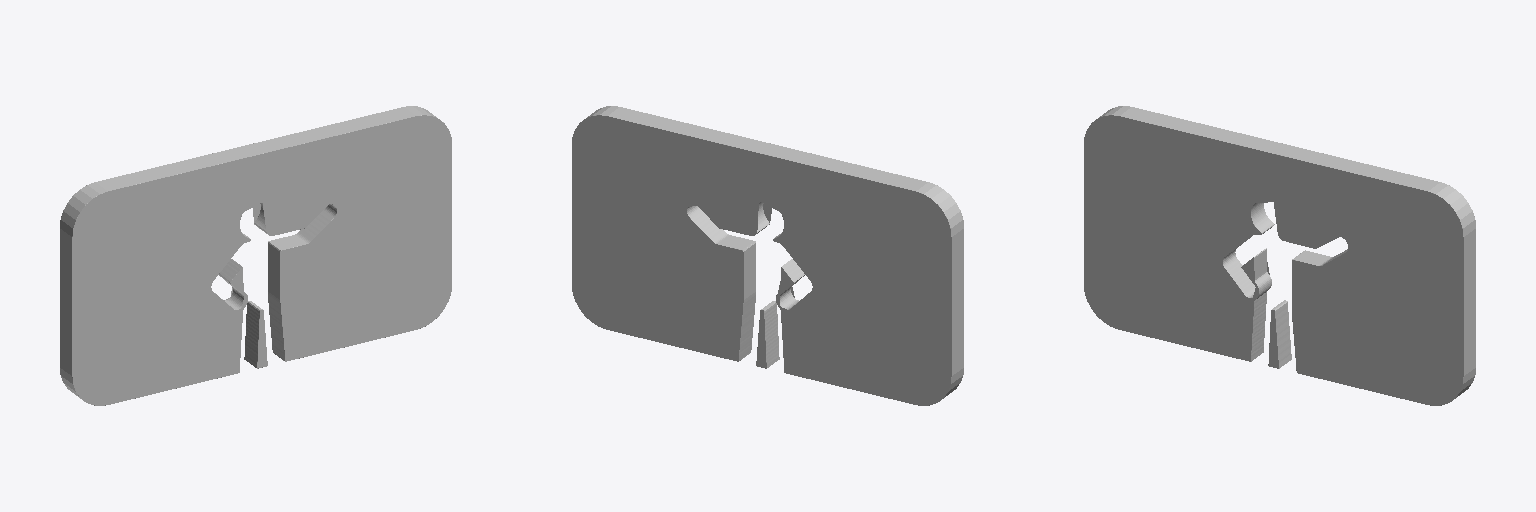
The picture shows the model from 3 angles: view 1: azimuth 30°, elevation 25°; view 2: azimuth 150°, elevation 25°; view 3: azimuth 330°, elevation 25°; orthographic projection.
Visible parts, largest first — view 1: wall_1; view 2: wall_1; view 3: wall_1.
Boxes of the visible parts, <box> form: wall_1: <box>60,106,451,405</box>; wall_1: <box>572,106,963,405</box>; wall_1: <box>1084,106,1475,405</box>.
Size of the model in its own units: 12 by 6.45 by 0.7.